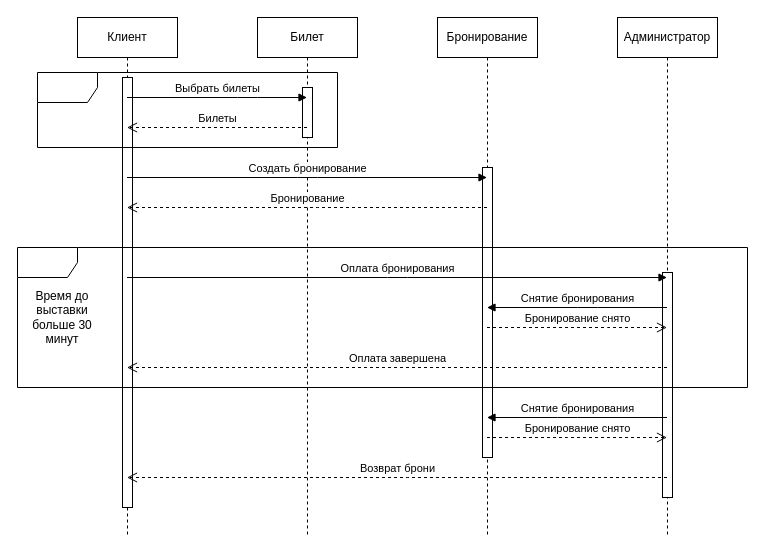
Some shapes in this 765 by 555 pixel diagram are drawn without their labels. The shapes that lost their labels are listed below. From the top down, each one's box as (x1, y1, x2, y2) in pixels, then its label:
(36, 72, 338, 148): loop
(16, 246, 748, 388): ref
